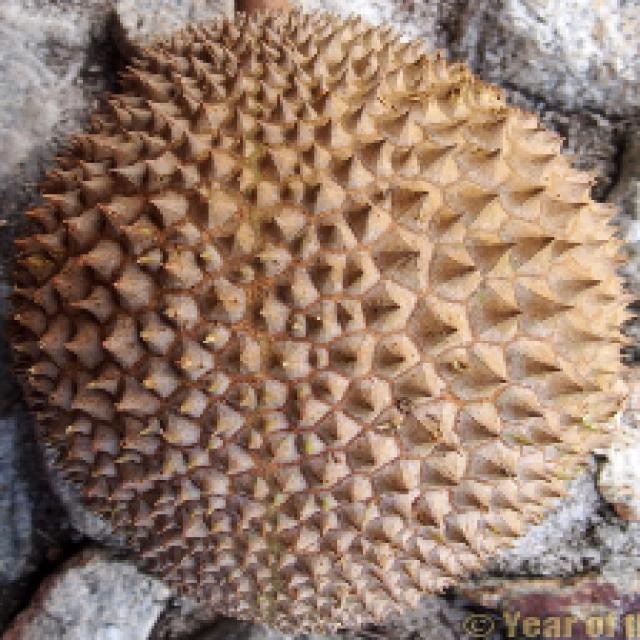d175: (11, 4, 624, 623)
